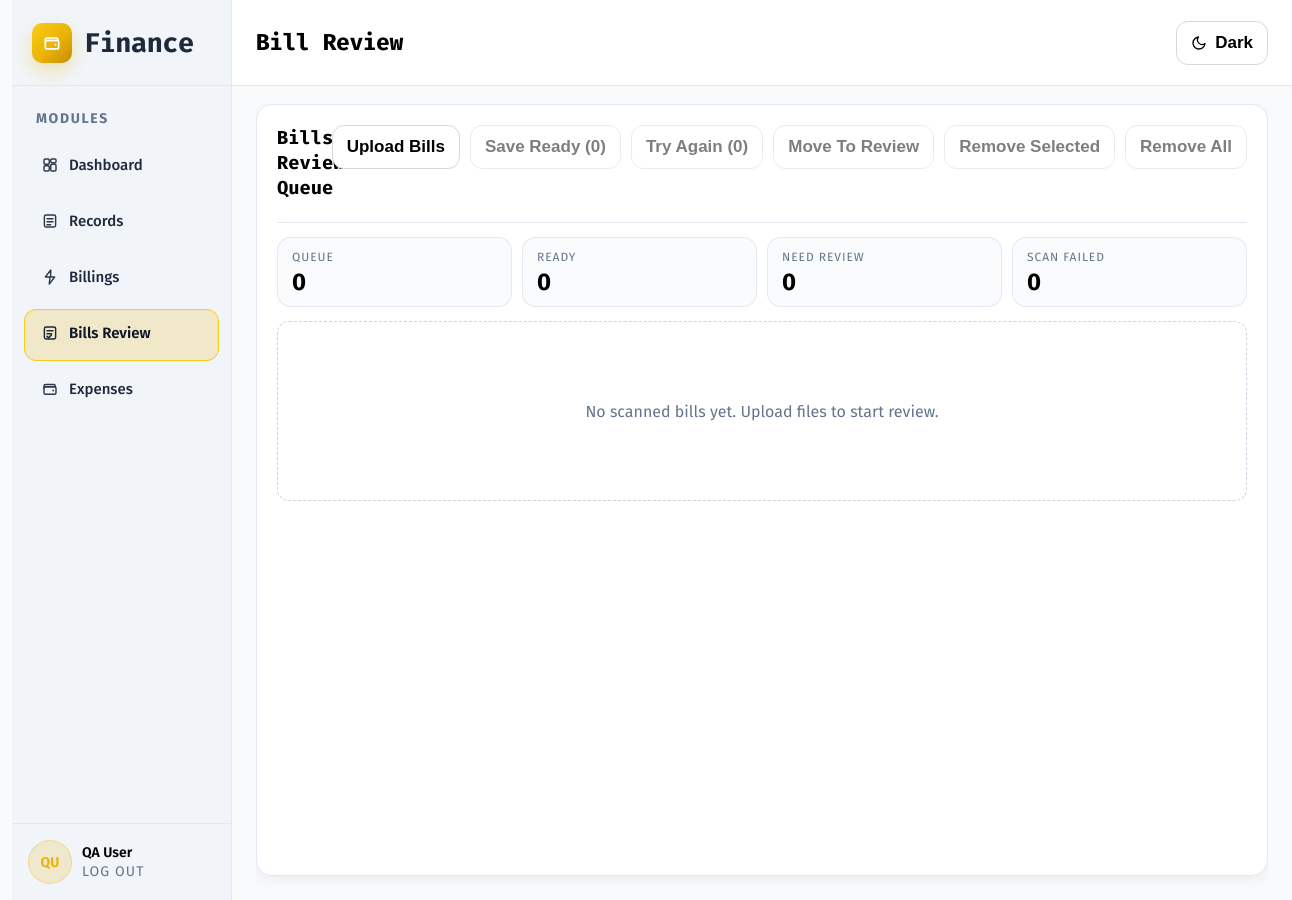
Billing flow integration coverage › persists Bill Review queue changes to the backend after uploads
The width and height of the screenshot is (1292, 900).
Click the button "Upload Bills": (396, 147) [332, 125, 460, 169]
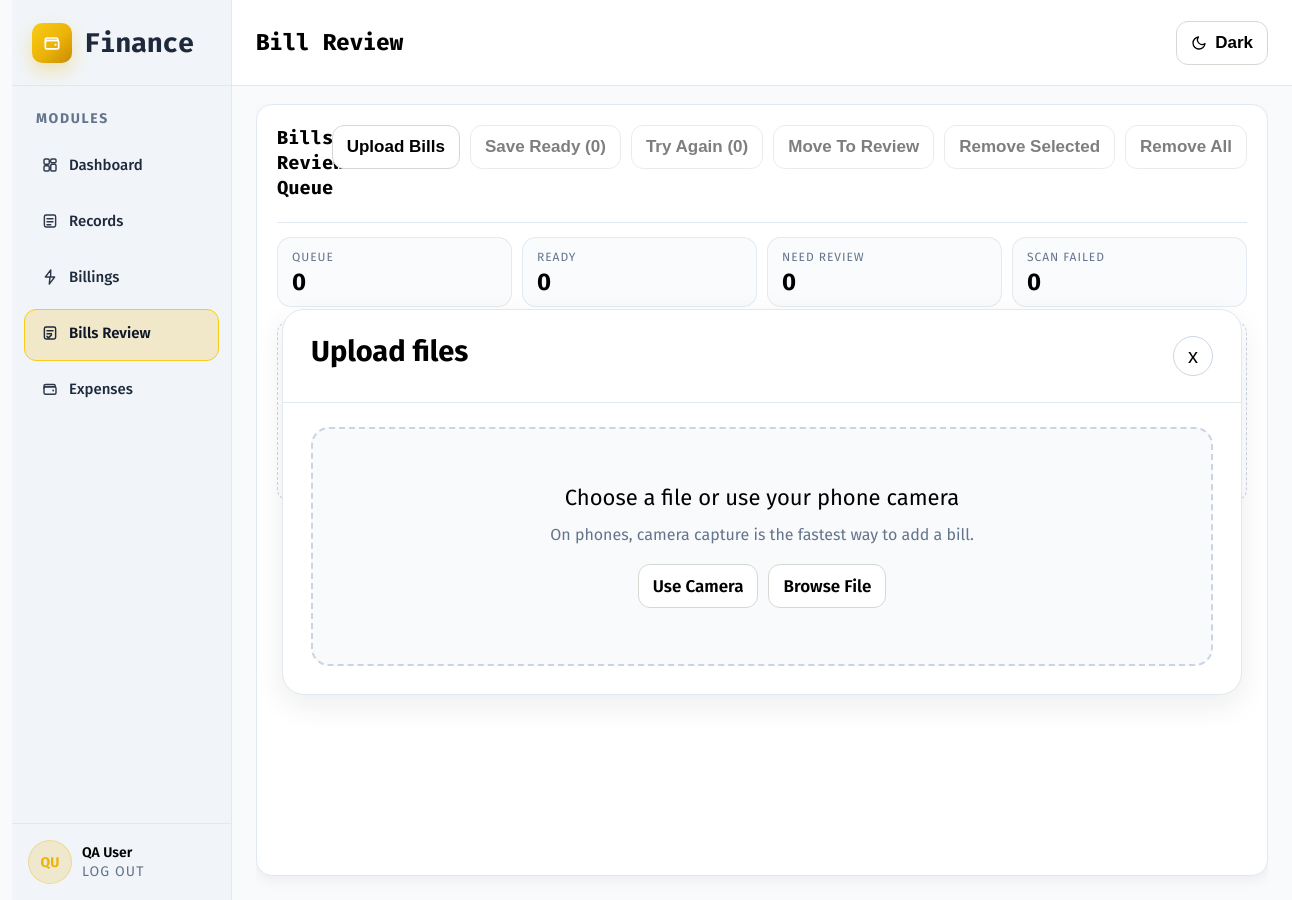
Expected: the file field labelled "Use Camera" is shown, [638, 564, 758, 608]
